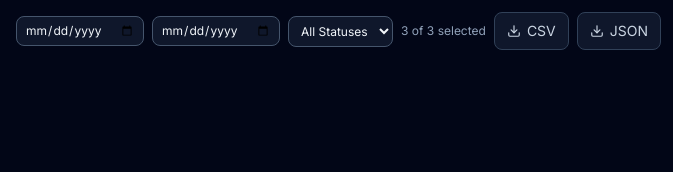
<TransactionExporter /> › disables both buttons when the filters select nothing
Type "2027-01-01" into the 1st date field named "Export from date" at (80, 31), box x1=16 y1=16 x2=144 y2=46
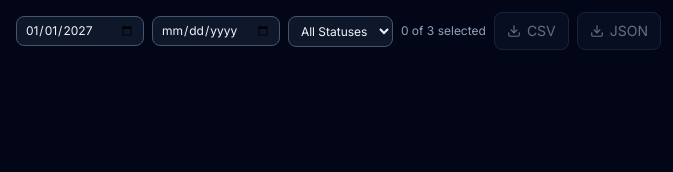
Check: the message with test id "export-count" reads "0 of 3 selected", box x1=401 y1=23 x2=486 y2=39
Check: the button "CSV" is disabled, box x1=494 y1=12 x2=569 y2=50
Check: the button "JSON" is disabled, box x1=577 y1=12 x2=661 y2=50
